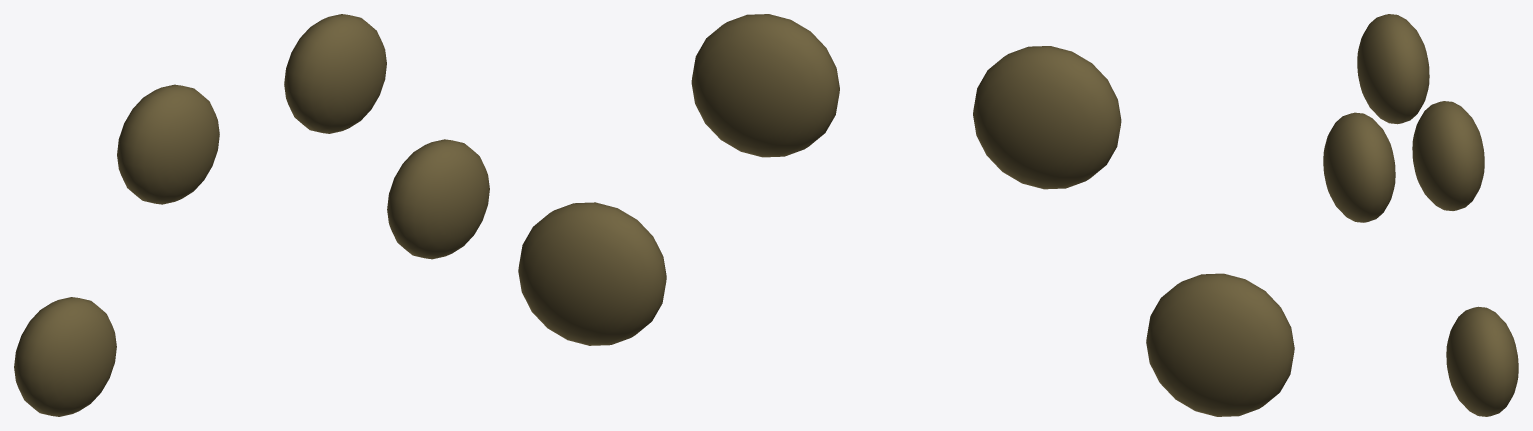
The model's file is srclamps.glb.
3 renders of one model, left to right at view 1: azimuth 30°, elevation 25°; view 2: azimuth 150°, elevation 25°; view 3: azimuth 270°, elevation 25°, orthographic. The views are drawn at different scales.
Visible parts, largest first — view 1: log_src_dome_1, log_src_dome_3, log_src_dome_2, log_src_dome_0; view 2: log_src_dome_0, log_src_dome_2, log_src_dome_3, log_src_dome_1; view 3: log_src_dome_3, log_src_dome_2, log_src_dome_0, log_src_dome_1.
Boxes of the visible parts, x1,y1,x2,y2 form: log_src_dome_1: [117, 84, 219, 204]; log_src_dome_3: [387, 139, 489, 259]; log_src_dome_2: [284, 14, 386, 133]; log_src_dome_0: [14, 297, 116, 416]; log_src_dome_0: [1146, 273, 1294, 416]; log_src_dome_2: [691, 14, 839, 157]; log_src_dome_3: [518, 202, 666, 345]; log_src_dome_1: [973, 46, 1121, 189]; log_src_dome_3: [1446, 306, 1518, 416]; log_src_dome_2: [1412, 101, 1484, 210]; log_src_dome_0: [1323, 112, 1395, 222]; log_src_dome_1: [1357, 14, 1429, 124].
Bounding box in the file's own units: 0.0795 × 0.0391 × 0.0273.
